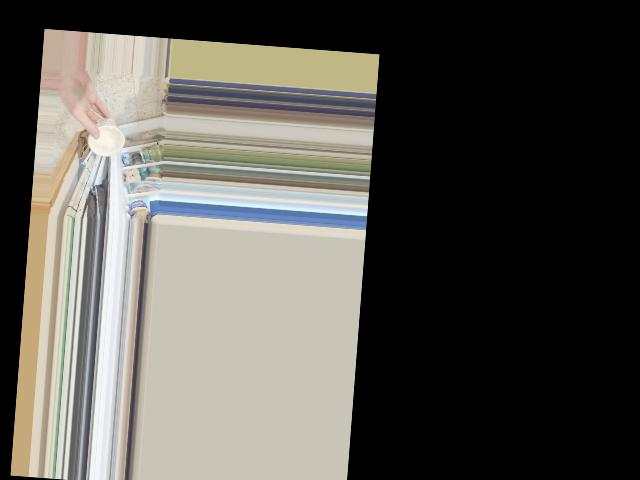cotage: (83, 113, 120, 157)
